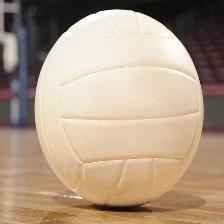Sports-Ball: (37, 9, 201, 204)
